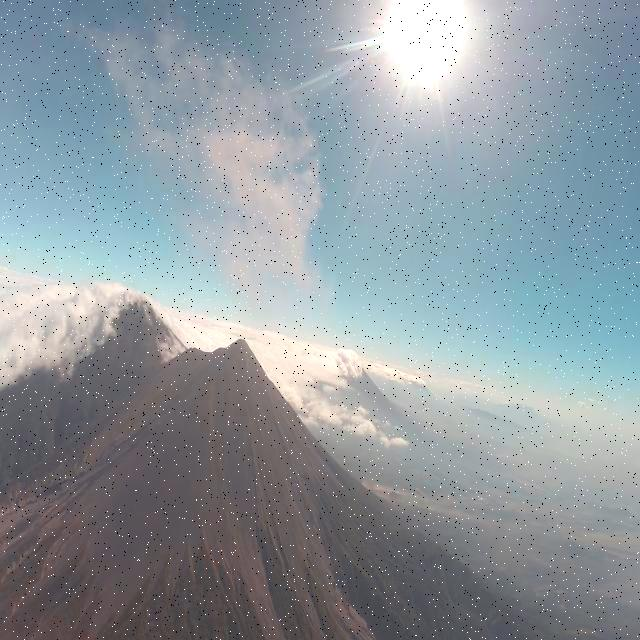Plume: (97, 11, 330, 280)
Summit: (212, 334, 260, 362)
